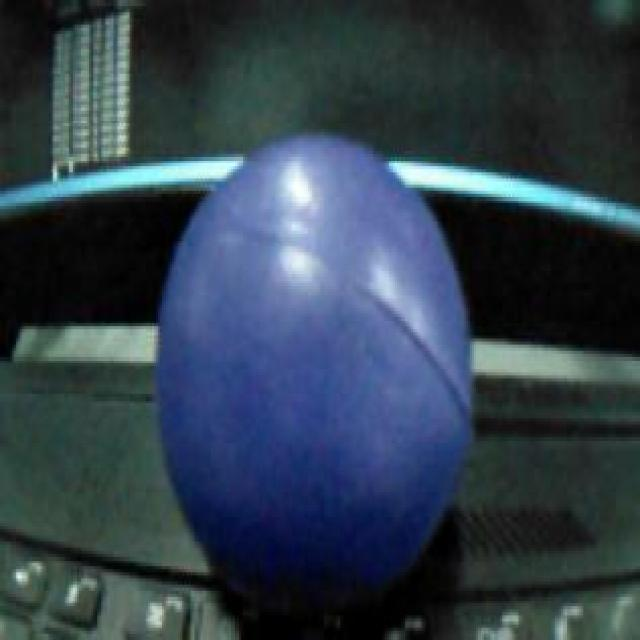BallPurple: (157, 132, 471, 598)
